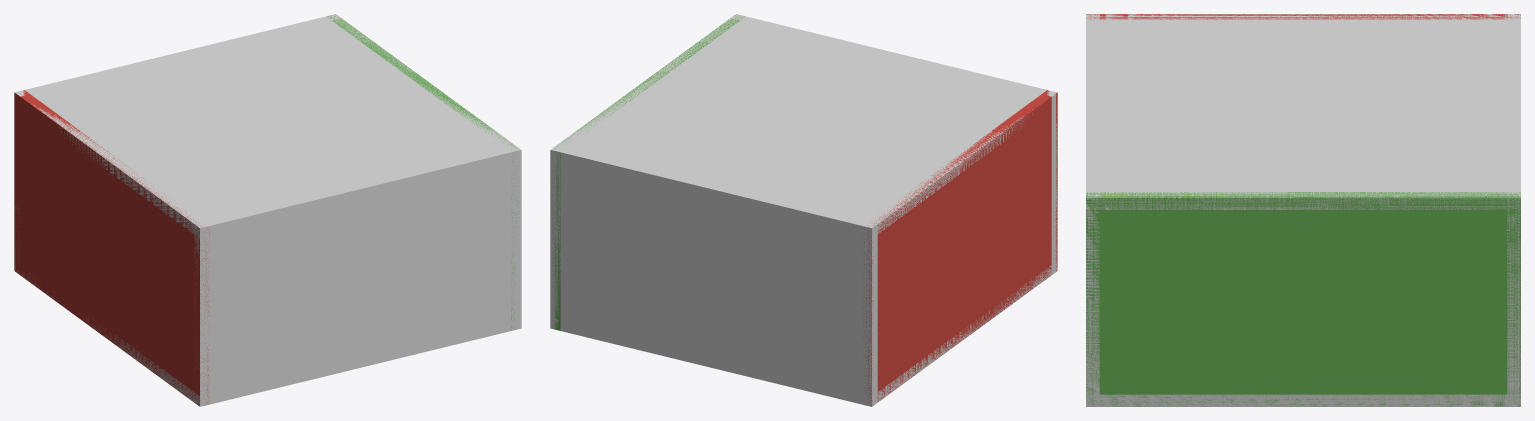
3 views of the same model, side by side, from view 1: azimuth 30°, elevation 25°; view 2: azimuth 150°, elevation 25°; view 3: azimuth 270°, elevation 25° (orthographic). The views are drawn at different scales.
Parts seen in each view (by area): view 1: Ceiling, Front, Wall_Red, Floor, Back, Wall_Green; view 2: Ceiling, Back, Wall_Red, Floor, Front, Wall_Green; view 3: Wall_Green, Ceiling, Floor, Back, Front, Wall_Red.
Part boxes in pixels (left/top/right/bottom): Ceiling: left=30, top=14, right=521, bottom=238; Front: left=194, top=148, right=521, bottom=406; Wall_Red: left=14, top=90, right=209, bottom=405; Floor: left=14, top=264, right=521, bottom=406; Back: left=14, top=14, right=340, bottom=266; Wall_Green: left=326, top=14, right=519, bottom=330; Ceiling: left=550, top=14, right=1041, bottom=238; Back: left=550, top=149, right=877, bottom=406; Wall_Red: left=862, top=90, right=1057, bottom=406; Floor: left=550, top=261, right=1057, bottom=406; Front: left=730, top=14, right=1057, bottom=274; Wall_Green: left=550, top=14, right=744, bottom=330; Wall_Green: left=1086, top=192, right=1520, bottom=406; Ceiling: left=1086, top=14, right=1520, bottom=209; Floor: left=1086, top=394, right=1520, bottom=406; Back: left=1507, top=14, right=1520, bottom=406; Front: left=1086, top=14, right=1099, bottom=406; Wall_Red: left=1086, top=14, right=1520, bottom=19.
Bounding box in the file's own units: 6.4 × 3.4 × 6.4.
